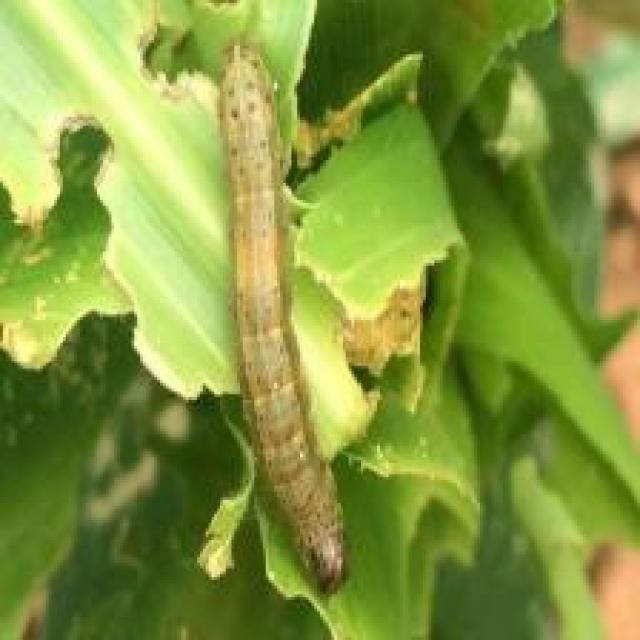Plaga: (171, 31, 354, 617)
